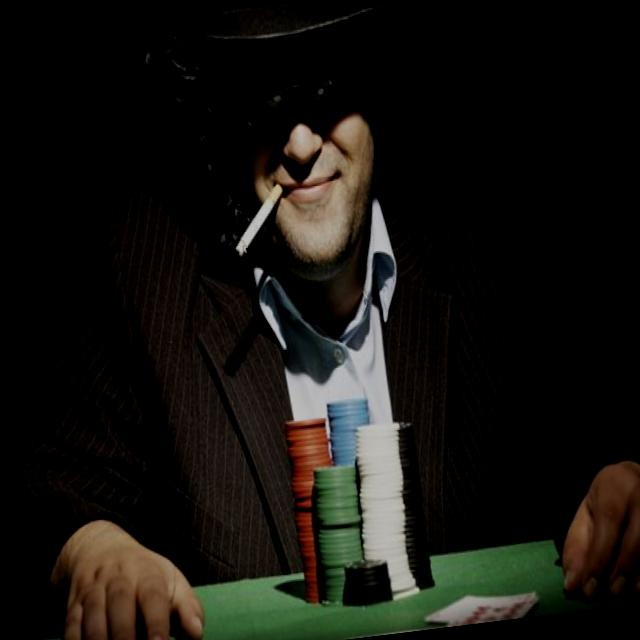cigarette: (225, 176, 292, 260)
